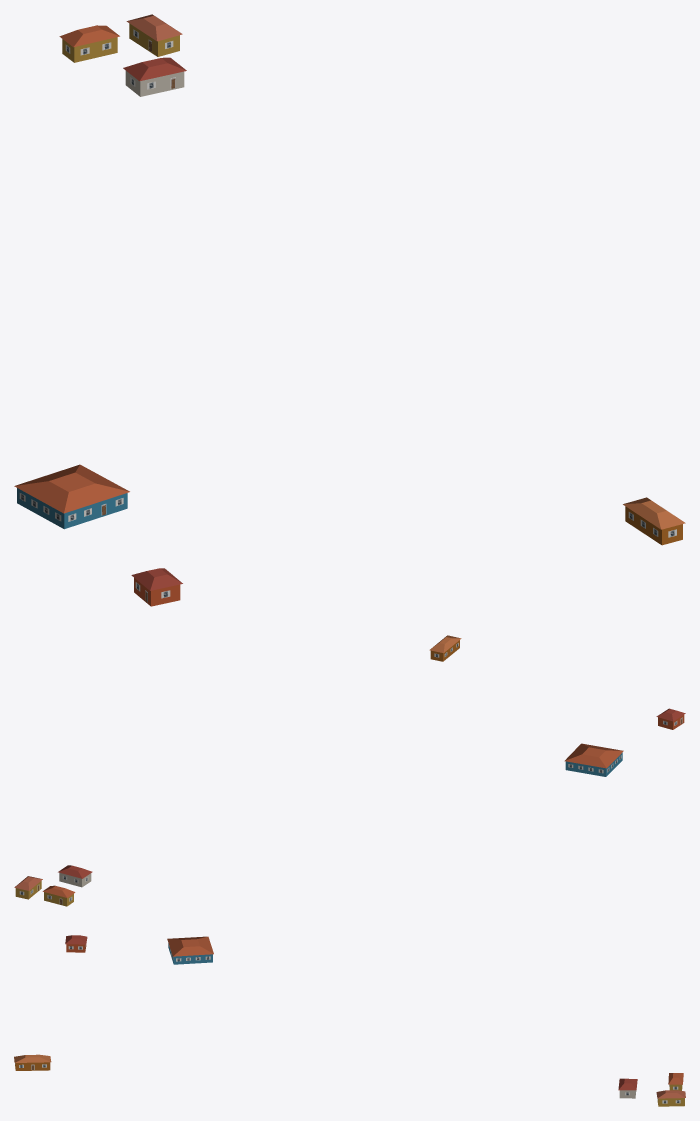
The model's file is msb_sannicolas_22_22.glb.
The picture shows the model from 3 angles, top to bottom: view 1: azimuth 30°, elevation 25°; view 2: azimuth 150°, elevation 25°; view 3: azimuth 270°, elevation 25°; orthographic projection. The views are drawn at different scales.
Visible parts, largest first — view 1: msb_sannicolas_22_22_lod0; view 2: msb_sannicolas_22_22_lod0; view 3: msb_sannicolas_22_22_lod0.
Boxes of the visible parts, left/top/right/bottom form: msb_sannicolas_22_22_lod0: left=14, top=14, right=685, bottom=606; msb_sannicolas_22_22_lod0: left=14, top=635, right=685, bottom=906; msb_sannicolas_22_22_lod0: left=14, top=935, right=685, bottom=1106.
Size of what is drawn, in the model's own units: 134 by 9.3 by 249.
Materials: 2 (1 with a texture image).
